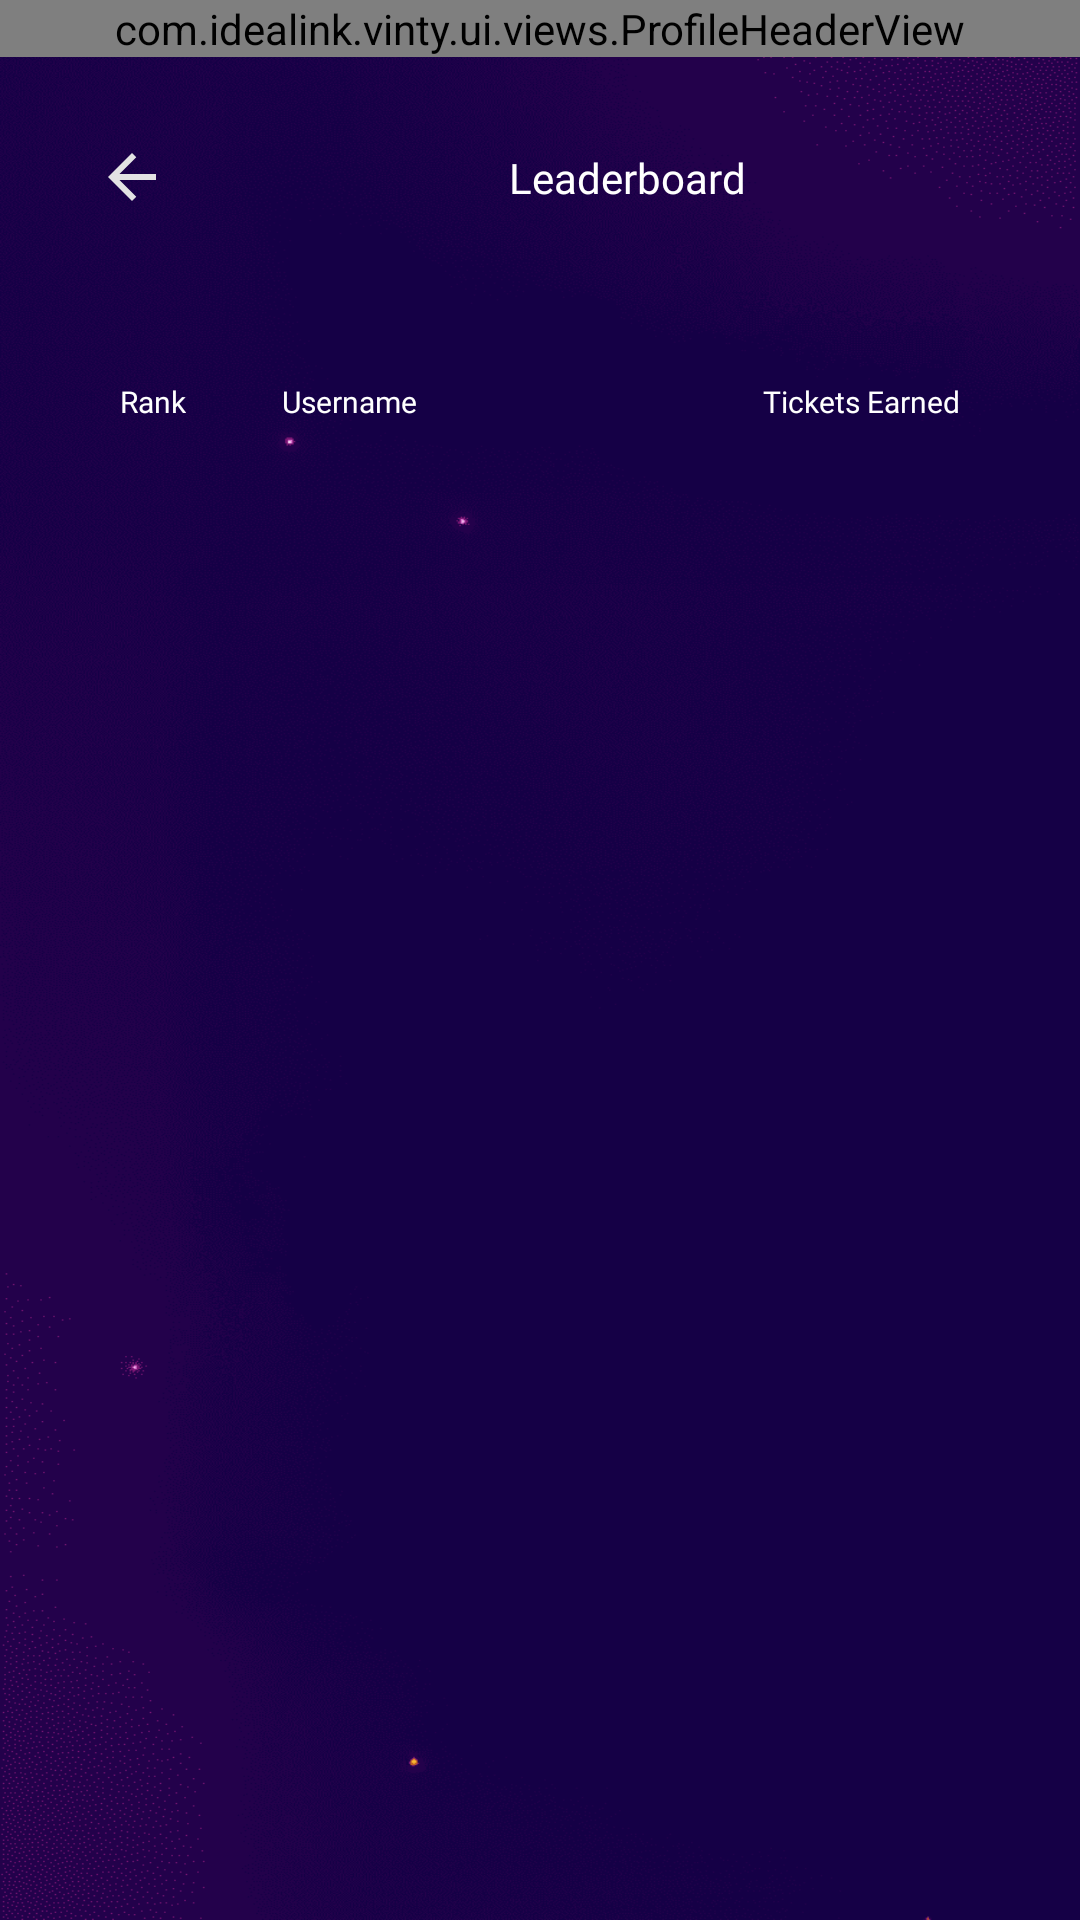

Icon bounding boxes for this 1080w x 1920h phone screenshot, format (x1, y1, x2, y2):
arrow back: (108, 153, 156, 201)
